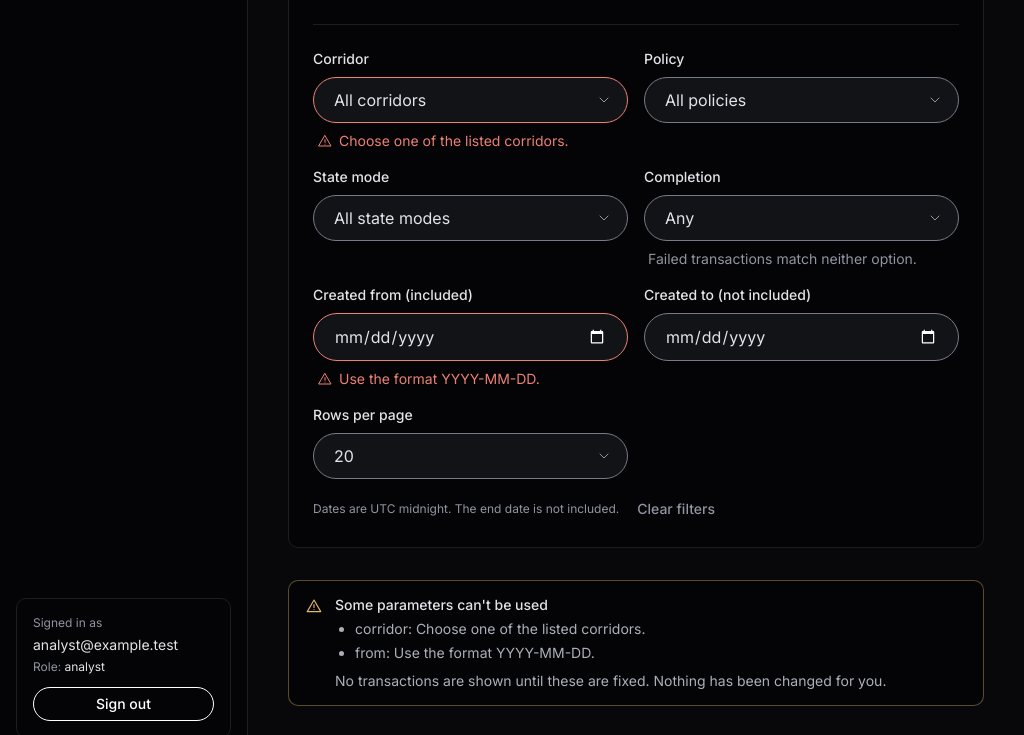
Test case: invalid parameters › shows the list again once everything is fixed
(page scrolled)
Click the button "Clear filters" at [676, 510], box [631,496,721,524]
(page scrolled)
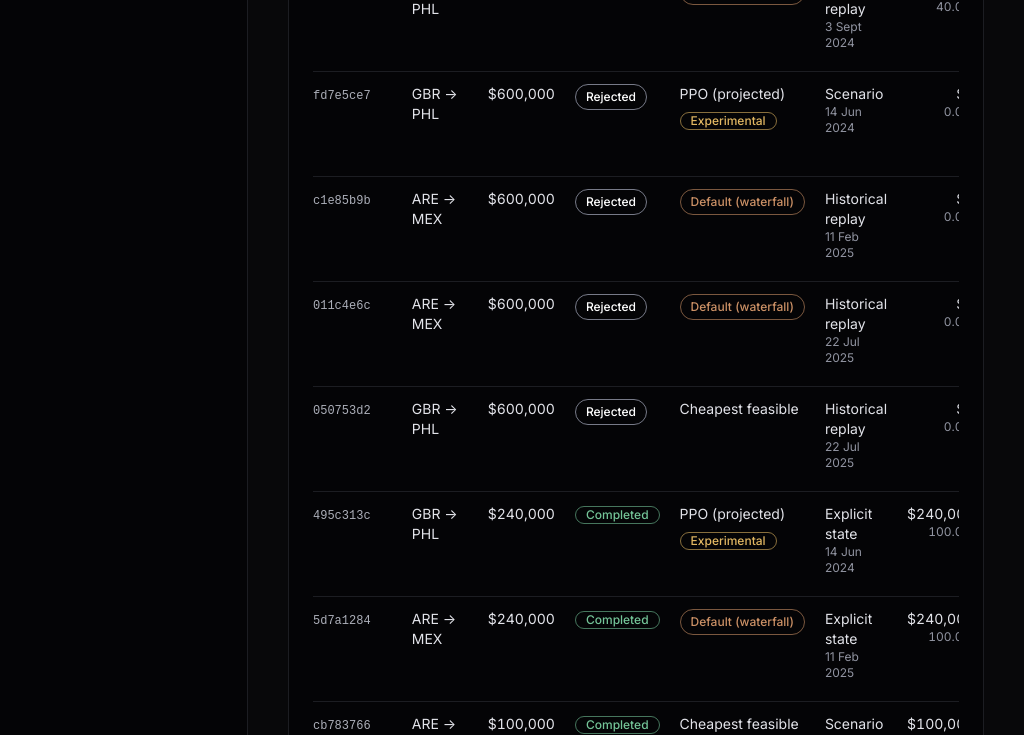
Expected: the text "Some parameters can't be used" is gone
